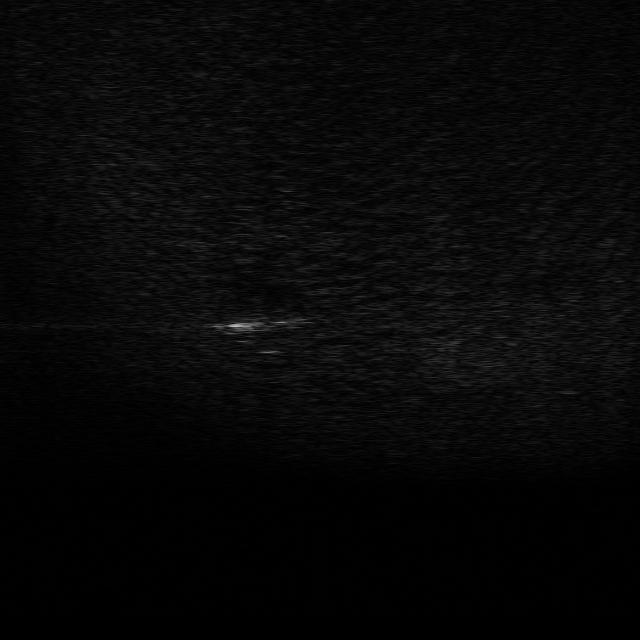plane: (221, 311, 319, 354)
